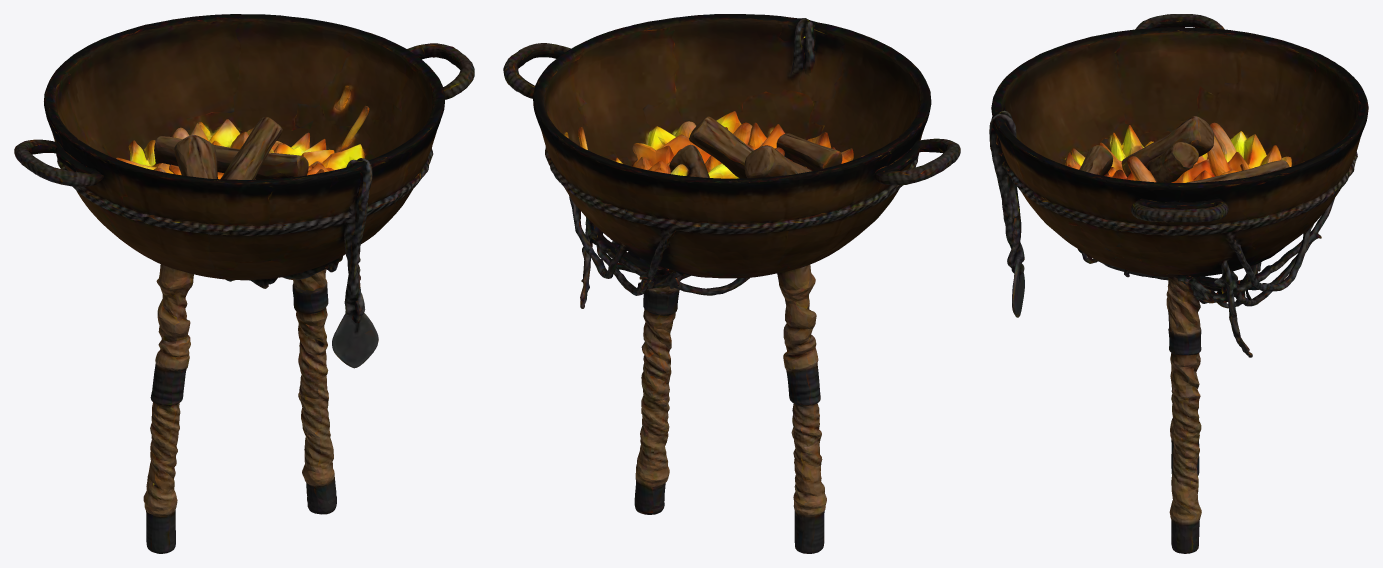
Rendered from ogre_brazier_01.glb.
The picture shows the model from 3 angles, left to right: view 1: azimuth 30°, elevation 25°; view 2: azimuth 150°, elevation 25°; view 3: azimuth 270°, elevation 25°; orthographic projection. The views are drawn at different scales.
Parts seen in each view (by area): view 1: geometry_0; view 2: geometry_0; view 3: geometry_0.
Boxes of the visible parts, x1,y1,x2,y2 form: geometry_0: [14, 14, 474, 553]; geometry_0: [503, 14, 960, 553]; geometry_0: [989, 14, 1368, 553].
Bounding box in the file's own units: 1 × 0.9539 × 0.7998.
1 material, 1 textured.
